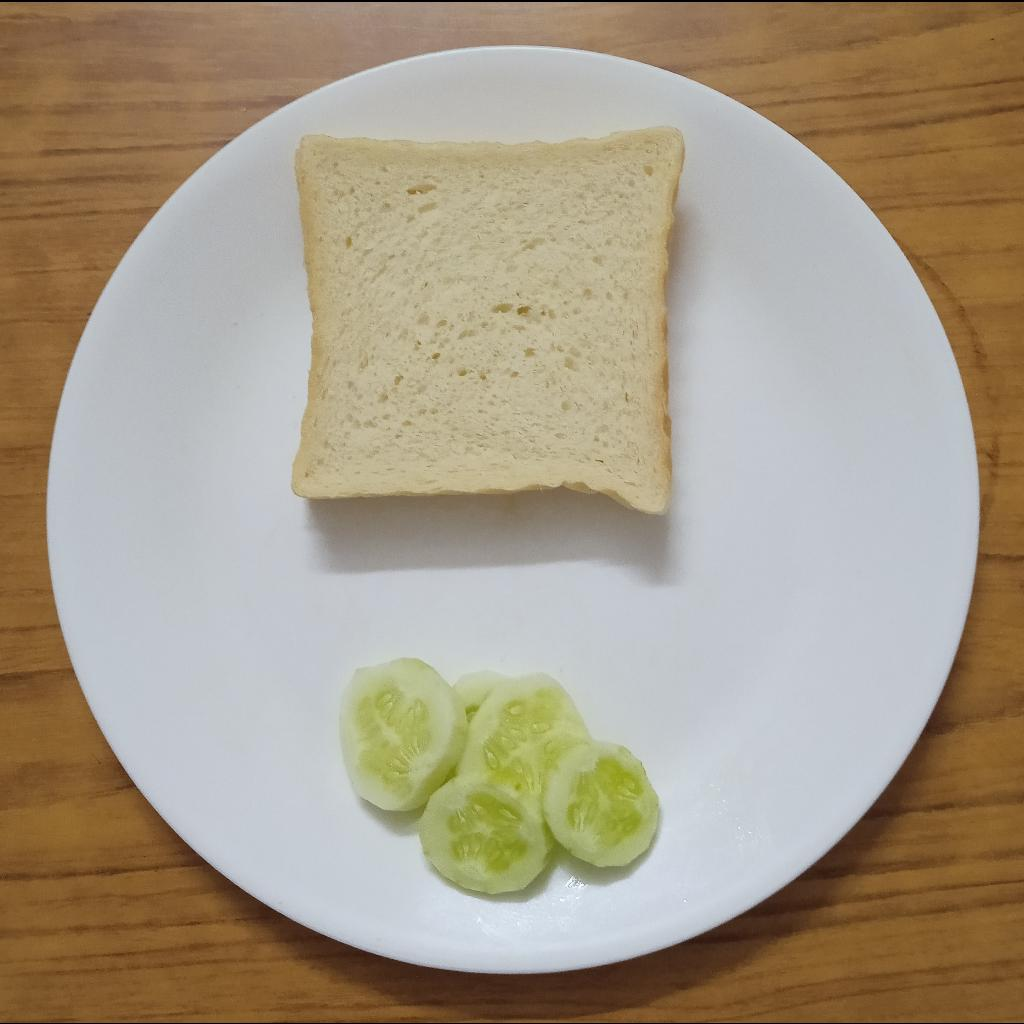bread: (294, 129, 685, 510)
cucumber: (339, 655, 658, 897)
